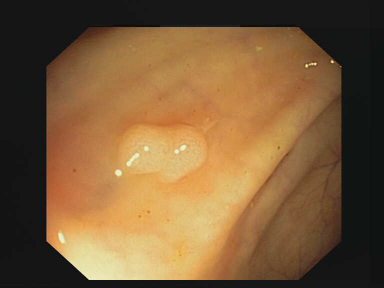polyp: (116, 120, 212, 182)
